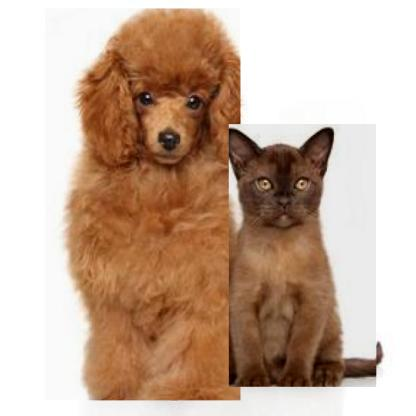cat: (229, 124, 376, 387)
dog: (45, 8, 240, 400)
